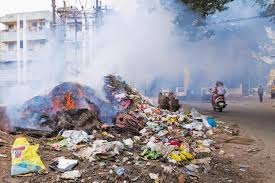garbage: (45, 90, 171, 166), (76, 111, 221, 171), (5, 130, 89, 173)
